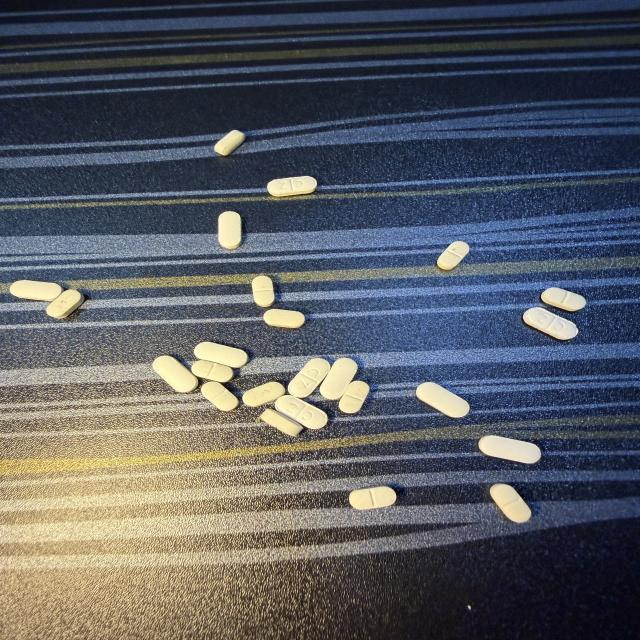pill: (416, 383, 469, 417), (523, 308, 578, 340), (276, 396, 327, 429), (479, 436, 540, 463), (288, 359, 331, 397), (153, 356, 198, 392), (490, 484, 531, 523), (320, 358, 357, 399), (194, 342, 248, 368), (260, 409, 303, 436), (10, 280, 63, 301), (46, 290, 84, 319), (202, 381, 238, 411), (541, 288, 586, 311), (349, 487, 396, 509), (243, 382, 285, 406), (268, 176, 317, 196), (339, 381, 369, 413), (437, 241, 469, 270), (218, 211, 242, 249), (192, 360, 233, 382), (264, 309, 305, 328), (214, 130, 245, 155), (252, 276, 274, 307)
